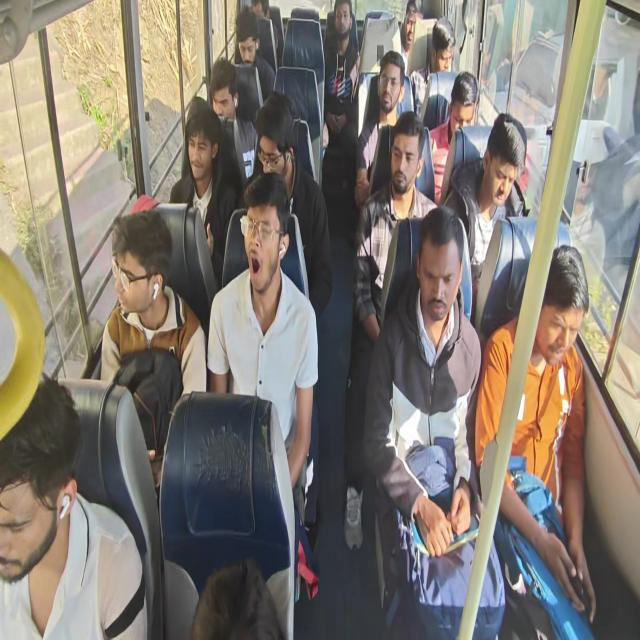person: (0, 374, 77, 595), (113, 219, 173, 319), (534, 245, 584, 362), (241, 177, 288, 295), (418, 228, 460, 324), (252, 118, 300, 193), (487, 113, 521, 215), (186, 107, 218, 188), (389, 119, 416, 190), (374, 51, 403, 107), (428, 22, 455, 80), (207, 68, 237, 120), (456, 73, 479, 139), (237, 21, 260, 66), (334, 3, 357, 45), (402, 4, 421, 41), (248, 0, 275, 24)
